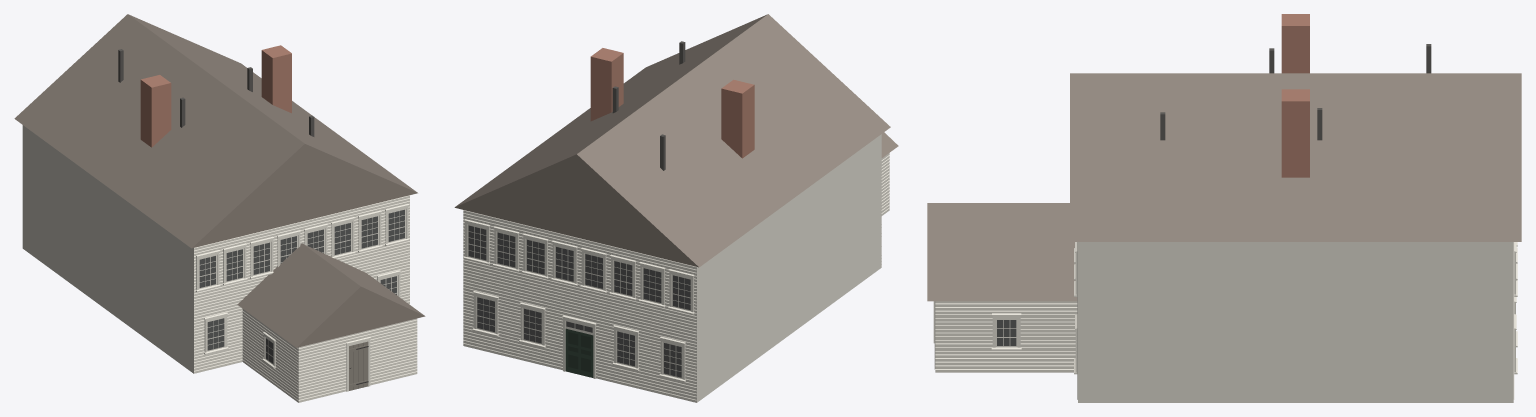
Rendered from recon_1835_blk_south_water_market_h3_02__inferred_1835.glb.
The picture shows the model from 3 angles, left to right: view 1: azimuth 30°, elevation 25°; view 2: azimuth 150°, elevation 25°; view 3: azimuth 270°, elevation 25°; orthographic projection. The views are drawn at different scales.
Visible parts, largest first — view 1: recon_1835_blk_south_water_market_h3_02__inferred_1835; view 2: recon_1835_blk_south_water_market_h3_02__inferred_1835; view 3: recon_1835_blk_south_water_market_h3_02__inferred_1835.
Boxes of the visible parts, x1,y1,x2,y2 form: recon_1835_blk_south_water_market_h3_02__inferred_1835: (14, 14, 425, 402); recon_1835_blk_south_water_market_h3_02__inferred_1835: (454, 14, 898, 402); recon_1835_blk_south_water_market_h3_02__inferred_1835: (927, 14, 1521, 402).
Bounding box in the file's own units: 10.52 × 9.68 × 18.74.
